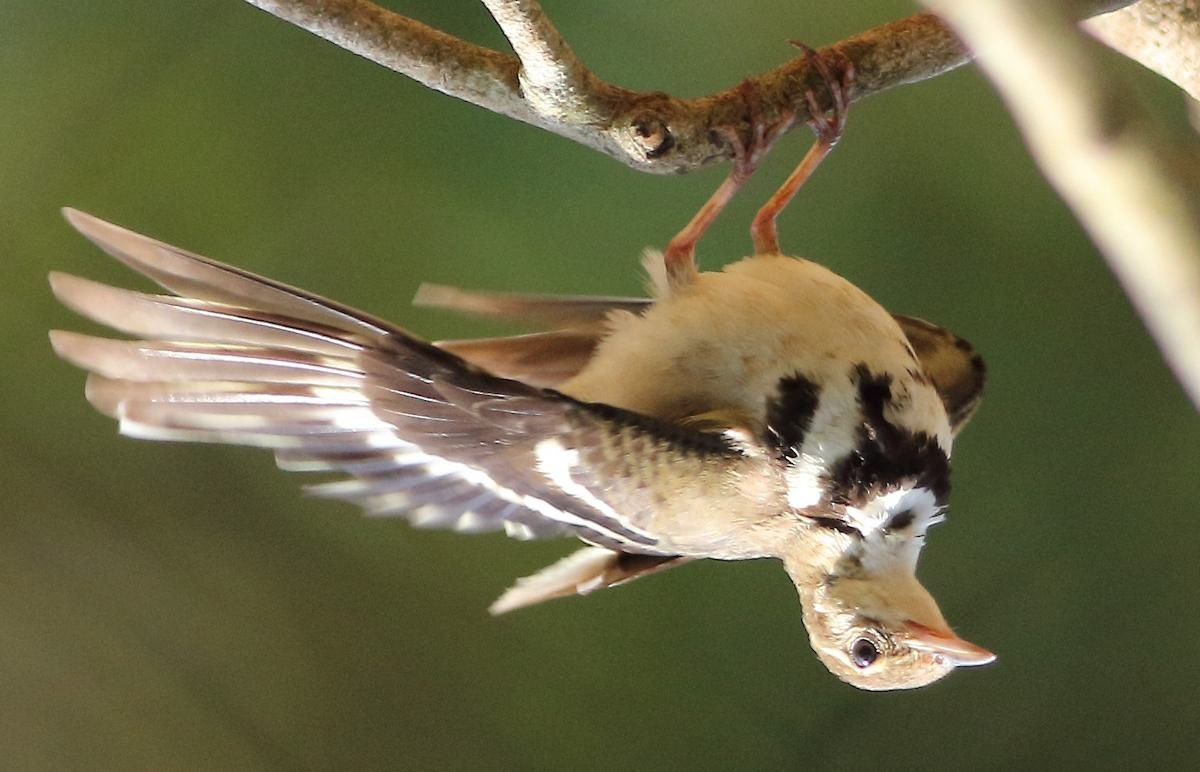wagtail: (146, 130, 1018, 702)
